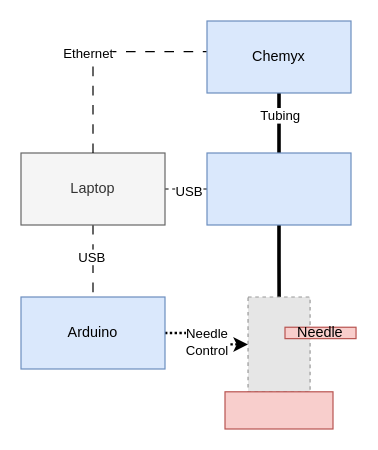
This 378x450 diagram has some shape labels left out. Grey dashed boxes stand in for pictures. The box of each missing label's shape, as (x1, y1, x2, y2) in pixels:
NMR: (206, 152, 351, 225)
Reaction Flask: (224, 391, 333, 429)
